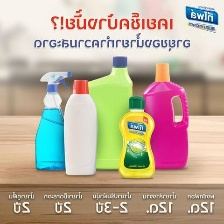cleaning_solution: (77, 55, 136, 173), (133, 60, 192, 172), (30, 69, 76, 173), (61, 77, 100, 178), (116, 93, 157, 181)
